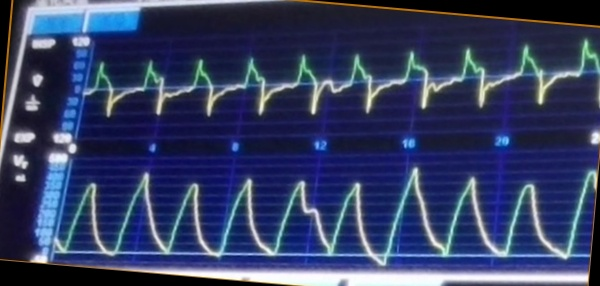Premature_cycling Flow: (93, 35, 599, 123)
Premature_cycling Volume: (68, 163, 590, 265)
